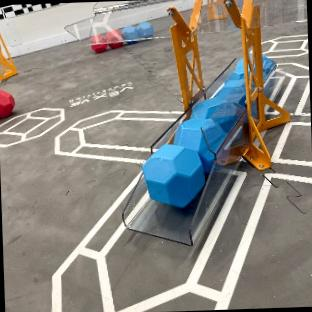V5_BLUE: (143, 145, 203, 206), (177, 118, 227, 173), (192, 94, 245, 130), (215, 73, 245, 110), (122, 22, 153, 40), (263, 55, 274, 75)
V5_RED: (0, 89, 14, 118), (104, 29, 123, 48), (90, 34, 109, 51)
